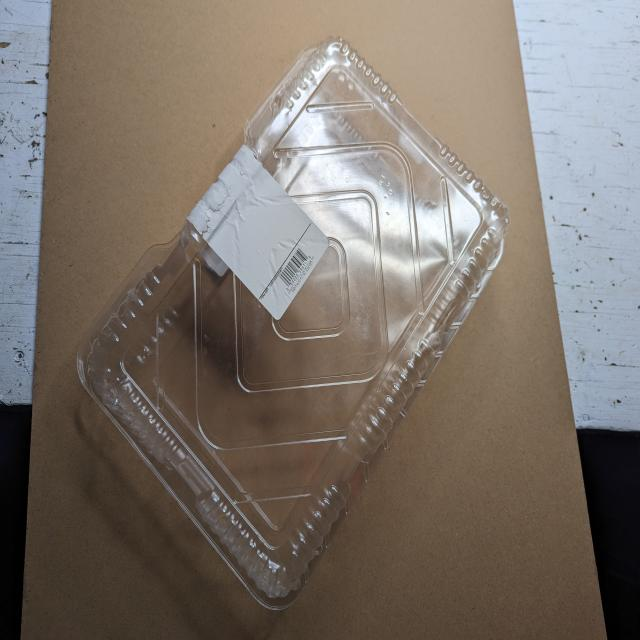Clamshell: (67, 25, 522, 640)
Label: (169, 129, 340, 322)
